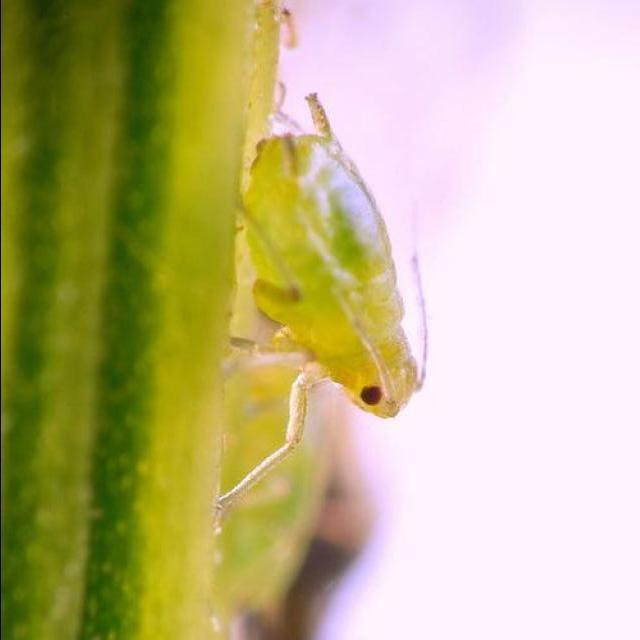aphid: (178, 70, 465, 538)
